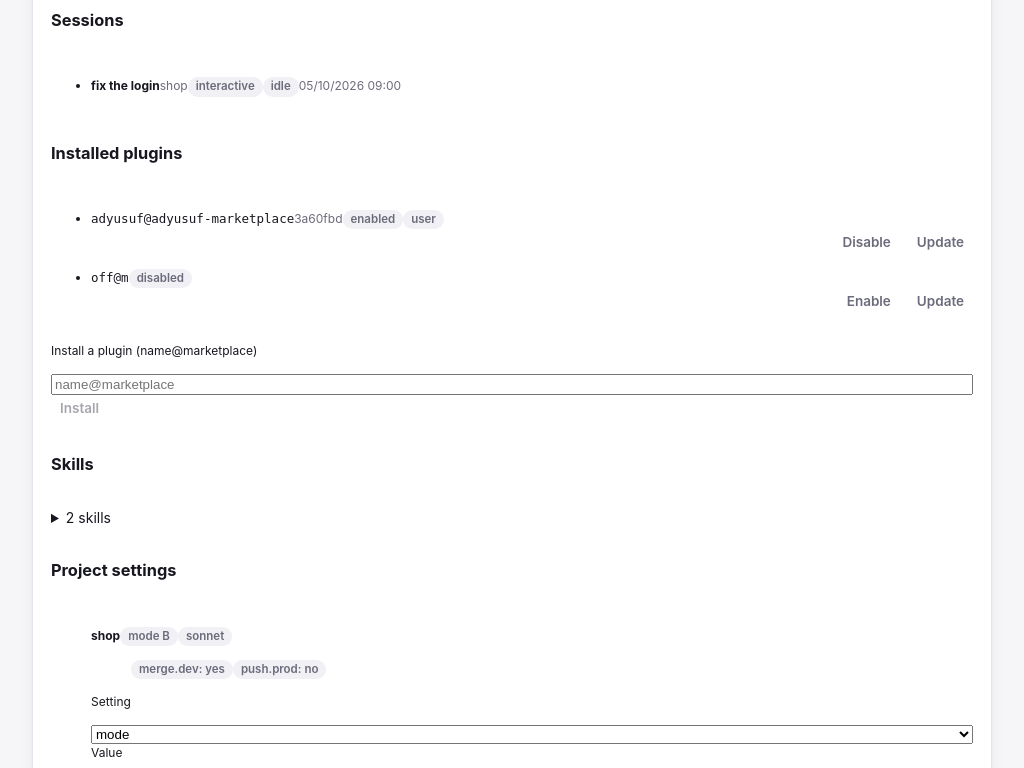
the Claude inventory card on the machine page › keeps the install button off until the id has the name@marketplace shape
The width and height of the screenshot is (1024, 768).
(page scrolled)
Type "no-marketplace" into the field labelled "Install a plugin (name@marketplace)" at point(512, 385), box [51,374,973,395]
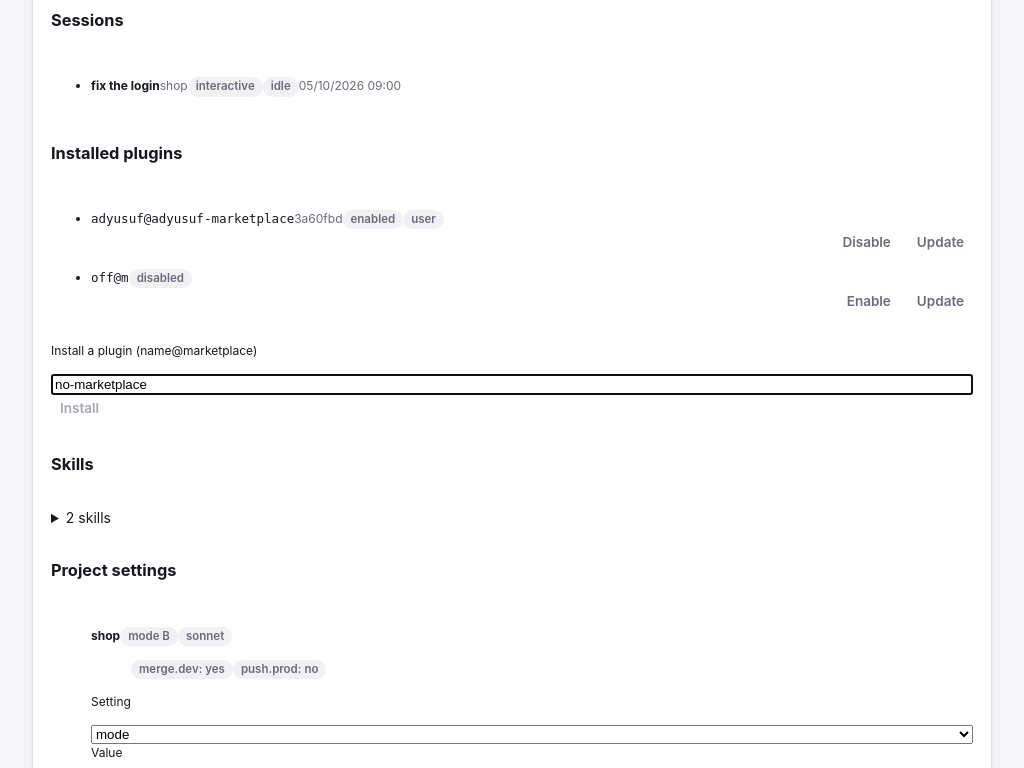
Expected: the button "Install" is disabled, [51,395,108,421]
Type "@m" into the field labelled "Install a plugin (name@marketplace)" at point(512, 385), box [51,374,973,395]
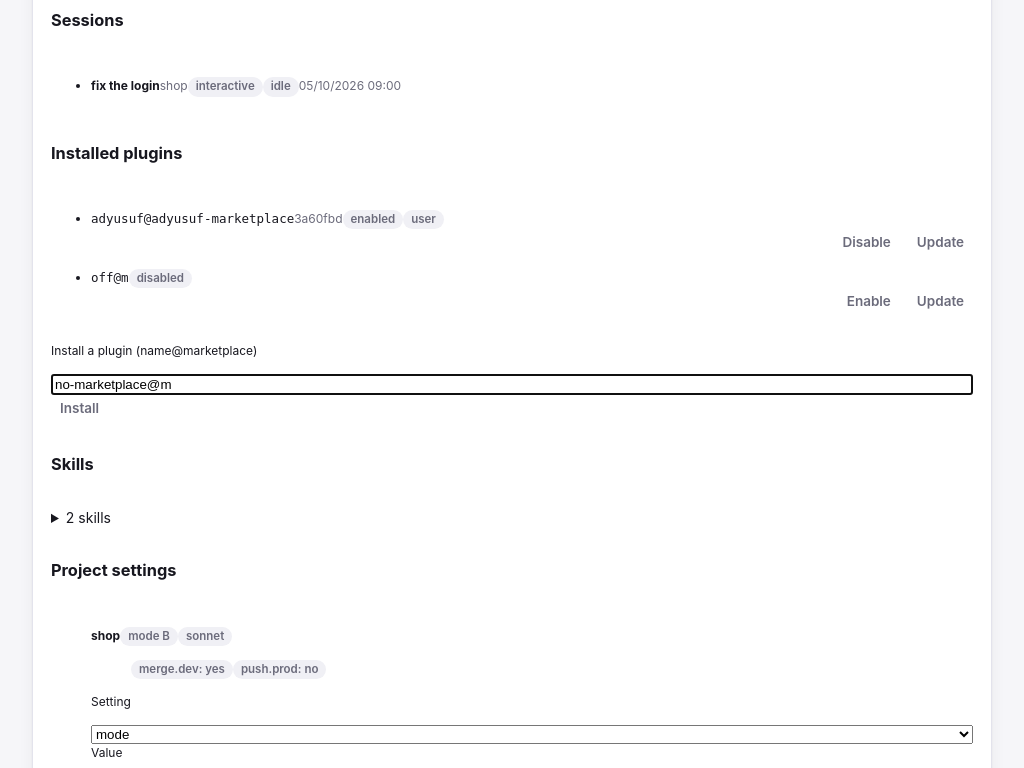
Now the button "Install" is enabled, box [51,395,108,421]
